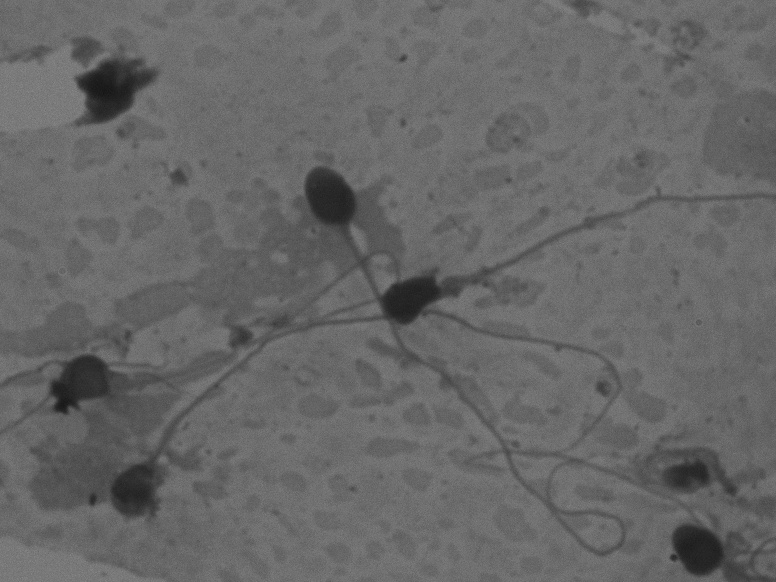Abnormal: (100, 262, 352, 528), (379, 182, 766, 330), (40, 309, 257, 412)
Normal: (286, 155, 645, 567)
